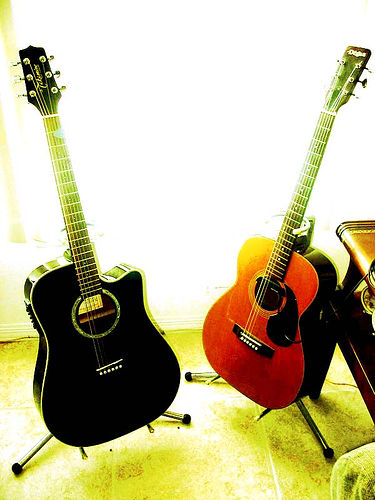guitar: (15, 39, 183, 448), (200, 40, 375, 411)
